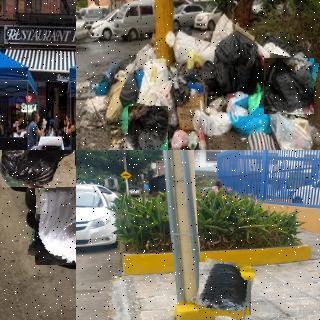Garbage: (30, 177, 76, 268), (196, 260, 254, 317), (262, 56, 317, 116), (27, 150, 76, 213), (212, 31, 263, 91), (0, 150, 76, 190), (125, 104, 170, 150), (269, 107, 315, 150), (165, 30, 211, 63), (140, 56, 169, 106), (190, 104, 231, 136), (244, 130, 277, 150), (118, 72, 138, 105)
